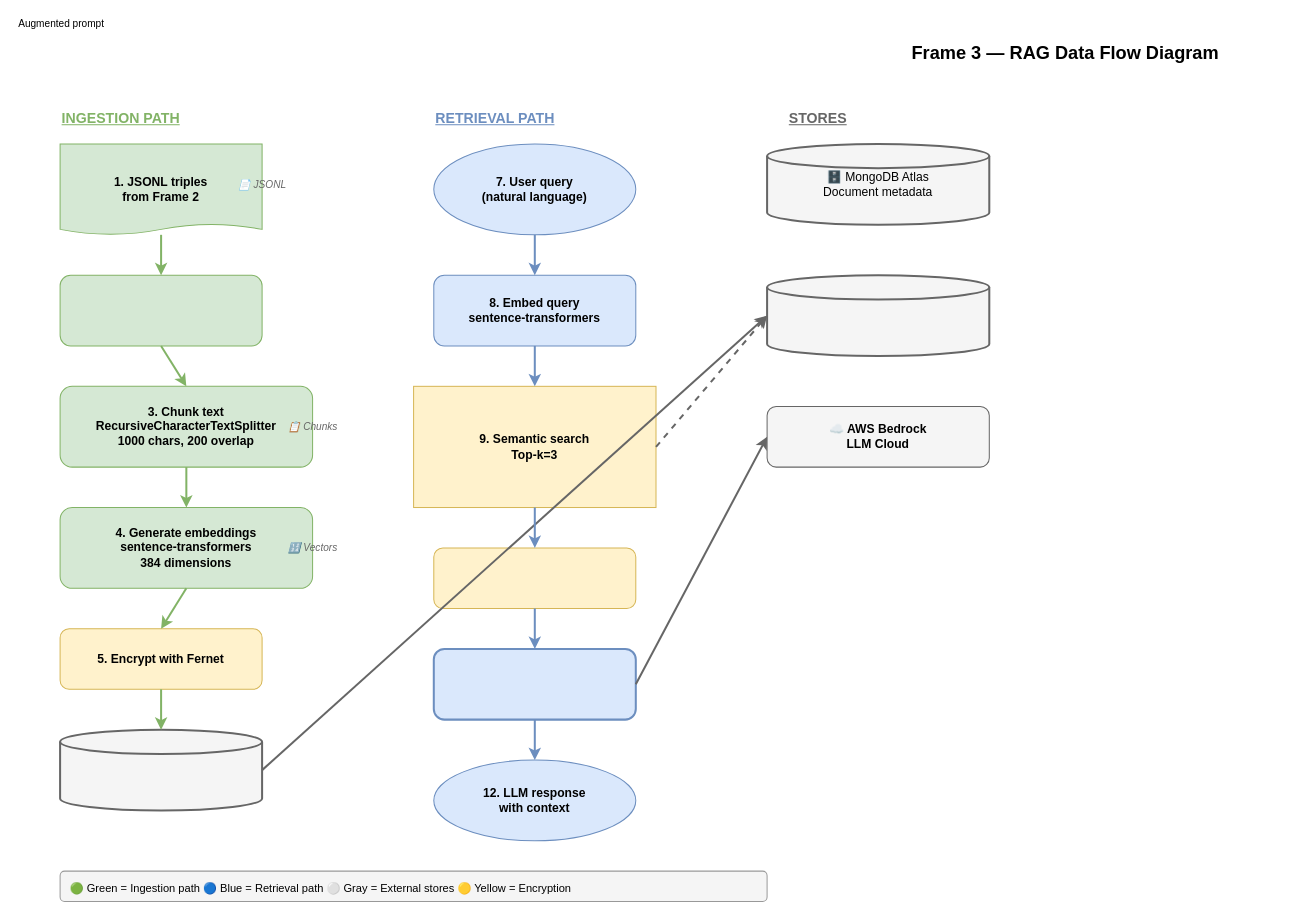
Image size: 1309x919. Some labels were removed from this diagram. Here are the shapes that lost their labels. From the top down, the centre of each, then its label:
At point 160,310: "2. Read JSONL per-user files".
At point 878,315: "🔍 Chroma / Pinecone Encrypted embeddings".
At point 534,578: "10. Decrypt results Fernet".
At point 534,683: "11. Context injection into LLM prompt".
At point 161,769: "6. Store in Chroma / Pinecone".
